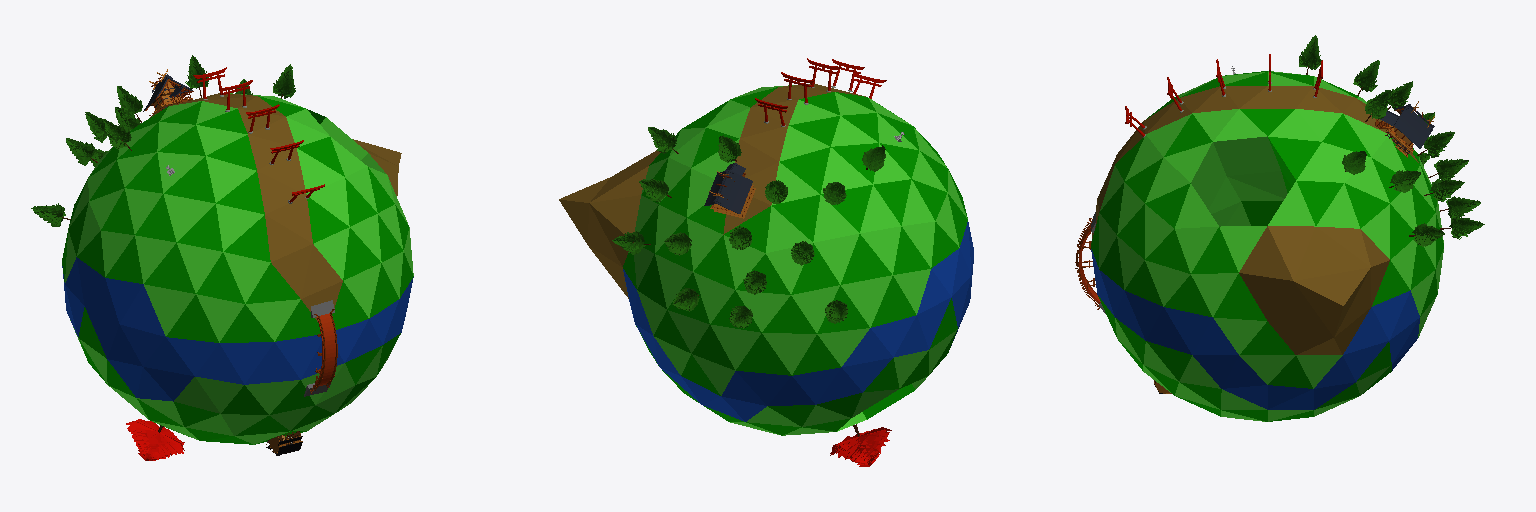
Rendered from sphereM.obj.
3 renders of one model, left to right at view 1: azimuth 30°, elevation 25°; view 2: azimuth 150°, elevation 25°; view 3: azimuth 270°, elevation 25°, orthographic.
Visible parts, largest first — view 1: Icosphere.001; view 2: Icosphere.001; view 3: Icosphere.001.
Part boxes in pixels (left/top/right/bottom): Icosphere.001: left=31, top=55, right=413, bottom=460; Icosphere.001: left=559, top=58, right=973, bottom=466; Icosphere.001: left=1075, top=35, right=1484, bottom=421.
Bounding box in the file's own units: 7.28 × 7.14 × 7.27.